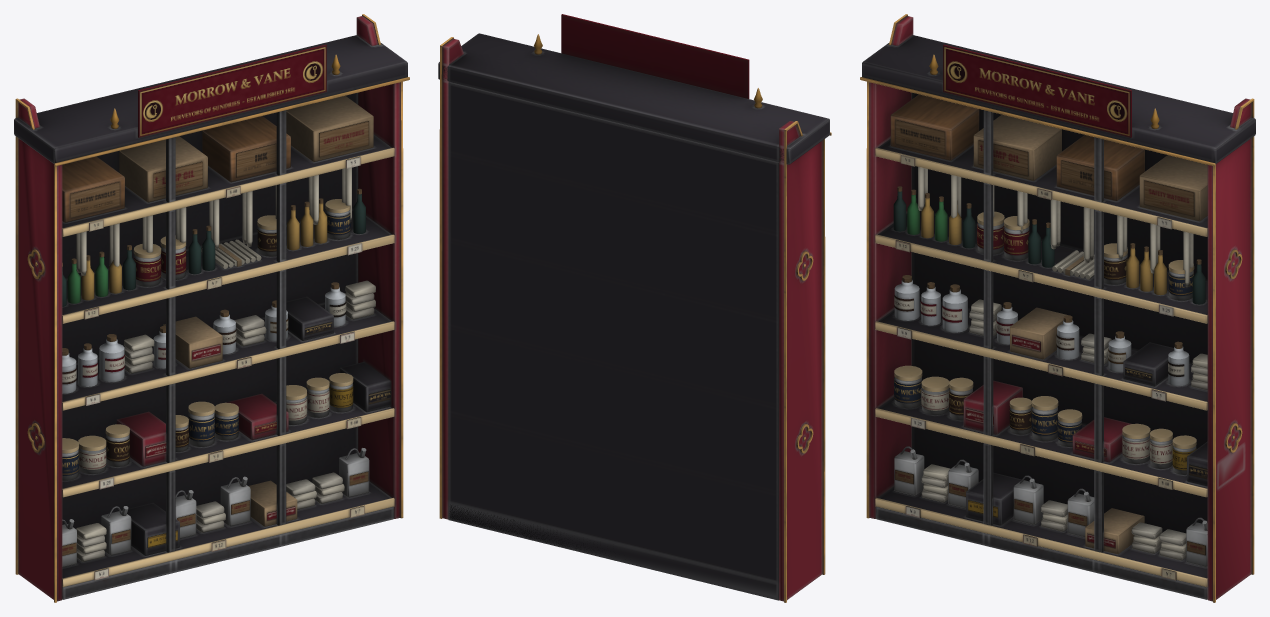
File: WallShelfStocked.fbx
3 renders of one model, left to right at view 1: azimuth 30°, elevation 25°; view 2: azimuth 150°, elevation 25°; view 3: azimuth 330°, elevation 25°, orthographic.
Visible parts, largest first — view 1: WallShelfStocked; view 2: WallShelfStocked; view 3: WallShelfStocked.
Part boxes in pixels (bbox=[...]): WallShelfStocked: bbox=[14, 14, 409, 602]; WallShelfStocked: bbox=[438, 14, 831, 602]; WallShelfStocked: bbox=[860, 14, 1255, 602].
Size of the model in its own units: 642 by 855 by 135.
